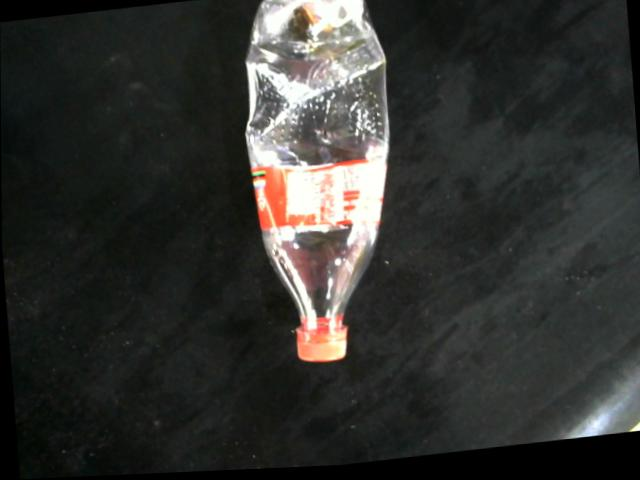bottle: (244, 0, 391, 365)
